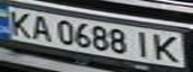0: (51, 18, 75, 46)
6: (72, 20, 93, 50)
8: (109, 26, 130, 55), (90, 24, 109, 52)
A: (27, 14, 54, 43)
I: (130, 29, 157, 60)
K: (148, 33, 184, 64), (3, 8, 36, 38)
